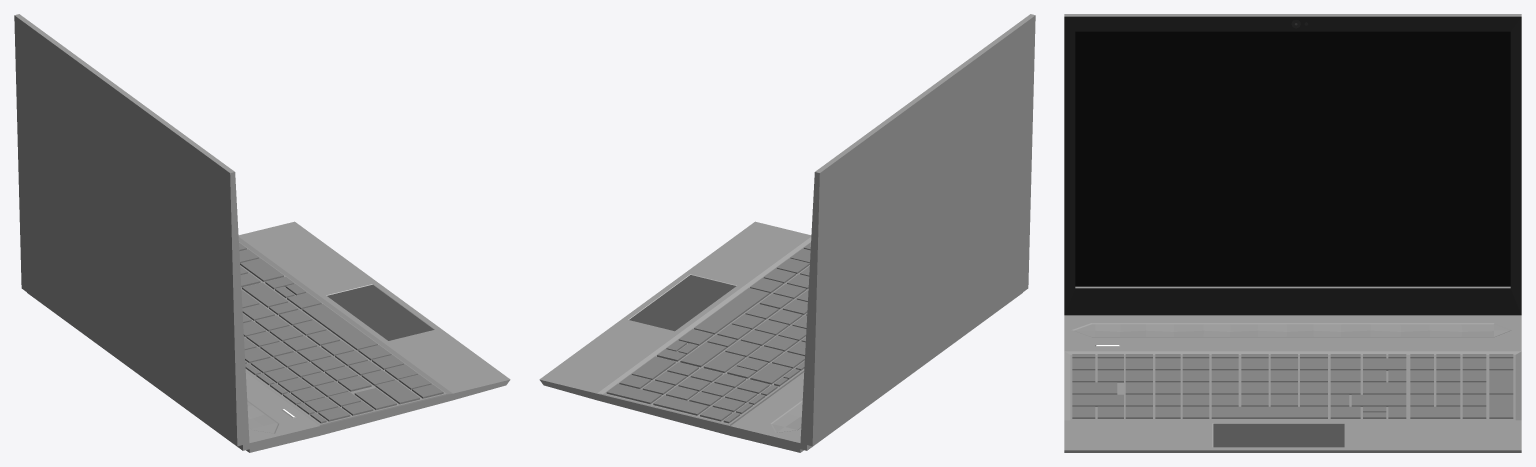
The model's file is computer.gltf.
3 views of the same model, side by side, from view 1: azimuth 30°, elevation 25°; view 2: azimuth 150°, elevation 25°; view 3: azimuth 270°, elevation 25° (orthographic). The views are drawn at different scales.
Parts seen in each view (by area): view 1: screen back, buttons, base, middle, inner touchpad, ventilation; view 2: screen back, buttons, base, middle, inner touchpad, ventilation; view 3: inner screen, buttons, screen front, base, middle, ventilation, inner touchpad, screen back.
Boxes of the visible parts, x1,y1,x2,y2 form: screen back: (14,14,249,446); buttons: (239,242,443,423); base: (238,221,510,452); middle: (238,237,452,425); inner touchpad: (327,284,434,340); ventilation: (247,402,277,433); screen back: (800,14,1035,446); buttons: (606,242,810,423); base: (539,221,811,452); middle: (597,237,811,425); inner touchpad: (629,275,736,331); ventilation: (772,402,802,432); inner screen: (1075,31,1510,286); buttons: (1072,354,1513,418); screen front: (1064,16,1521,315); base: (1064,315,1521,452); middle: (1064,351,1521,420); ventilation: (1074,324,1509,336); inner touchpad: (1213,423,1344,447); screen back: (1064,14,1521,288).
Size of the model in its own units: 1.5 by 1.45 by 2.
